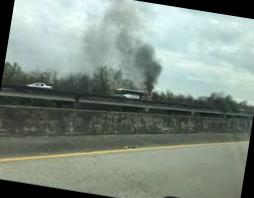Smoke: (80, 0, 178, 102)
